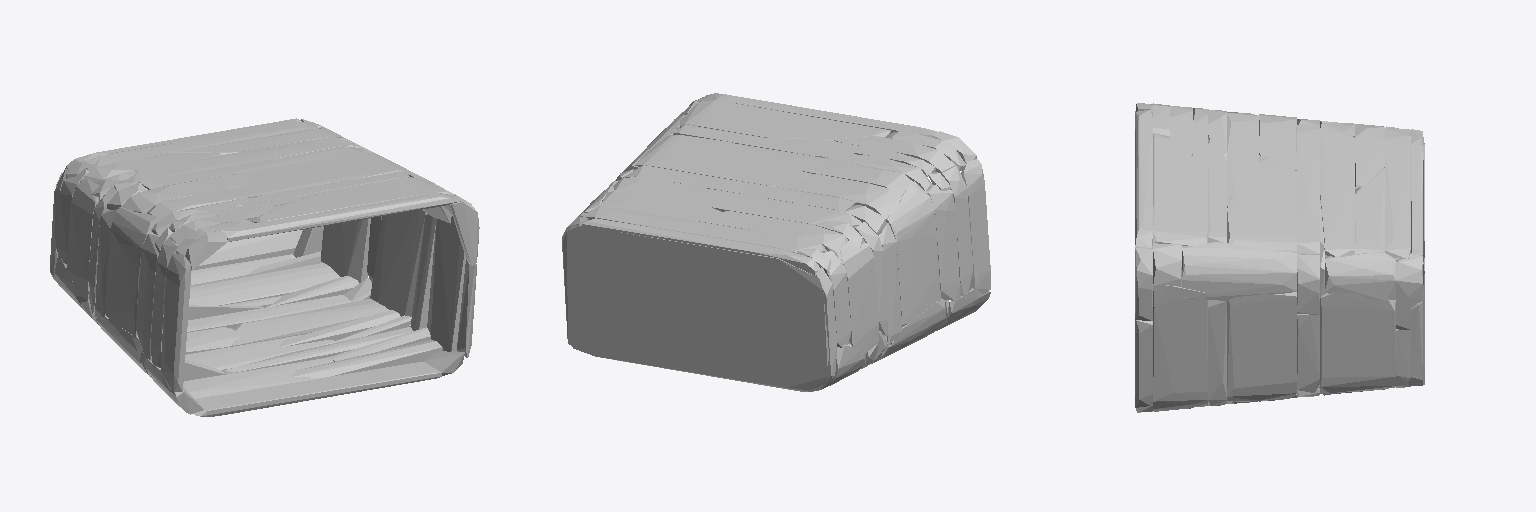
3 views of the same model, side by side, from view 1: azimuth 30°, elevation 25°; view 2: azimuth 150°, elevation 25°; view 3: azimuth 270°, elevation 25° (orthographic).
Visible parts, largest first — view 1: convex_38, convex_34, convex_4, convex_42, convex_16, convex_36, convex_51, convex_40, convex_44, convex_33, convex_19, convex_14 (+28 smaller); view 2: convex_0, convex_4, convex_36, convex_44, convex_19, convex_12, convex_14, convex_28, convex_55, convex_45, convex_40, convex_11 (+18 smaller); view 3: convex_34, convex_17, convex_42, convex_35, convex_36, convex_44, convex_19, convex_12, convex_18, convex_28, convex_51, convex_72 (+17 smaller).
Boxes of the visible parts, <box> form: convex_38: <box>194,362,441,416</box>; convex_34: <box>370,210,426,316</box>; convex_4: <box>104,207,160,337</box>; convex_42: <box>427,216,465,351</box>; convex_16: <box>189,262,340,305</box>; convex_36: <box>226,152,403,188</box>; convex_51: <box>221,193,460,241</box>; convex_40: <box>160,254,190,392</box>; convex_44: <box>252,177,448,222</box>; convex_33: <box>231,299,388,346</box>; convex_19: <box>114,136,354,190</box>; convex_14: <box>66,179,98,300</box>; convex_0: <box>563,226,828,389</box>; convex_4: <box>886,181,940,326</box>; convex_36: <box>635,135,811,186</box>; convex_44: <box>679,100,890,141</box>; convex_19: <box>613,177,861,228</box>; convex_12: <box>581,205,827,253</box>; convex_14: <box>840,240,878,355</box>; convex_28: <box>623,165,855,211</box>; convex_55: <box>582,218,819,275</box>; convex_45: <box>732,144,912,195</box>; convex_40: <box>961,159,990,293</box>; convex_11: <box>925,184,960,300</box>; convex_34: <box>1227,292,1296,401</box>; convex_17: <box>1320,293,1395,393</box>; convex_42: <box>1153,285,1207,411</box>; convex_35: <box>1182,242,1296,300</box>; convex_36: <box>1227,155,1296,251</box>; convex_44: <box>1153,133,1207,245</box>; convex_19: <box>1320,122,1354,256</box>; convex_12: <box>1385,127,1410,258</box>; convex_18: <box>1325,251,1395,300</box>; convex_28: <box>1297,125,1319,253</box>; convex_51: <box>1135,110,1152,247</box>; convex_72: <box>1355,168,1384,256</box>.
Bounding box in the file's own units: 0.4153 × 0.2537 × 0.341.